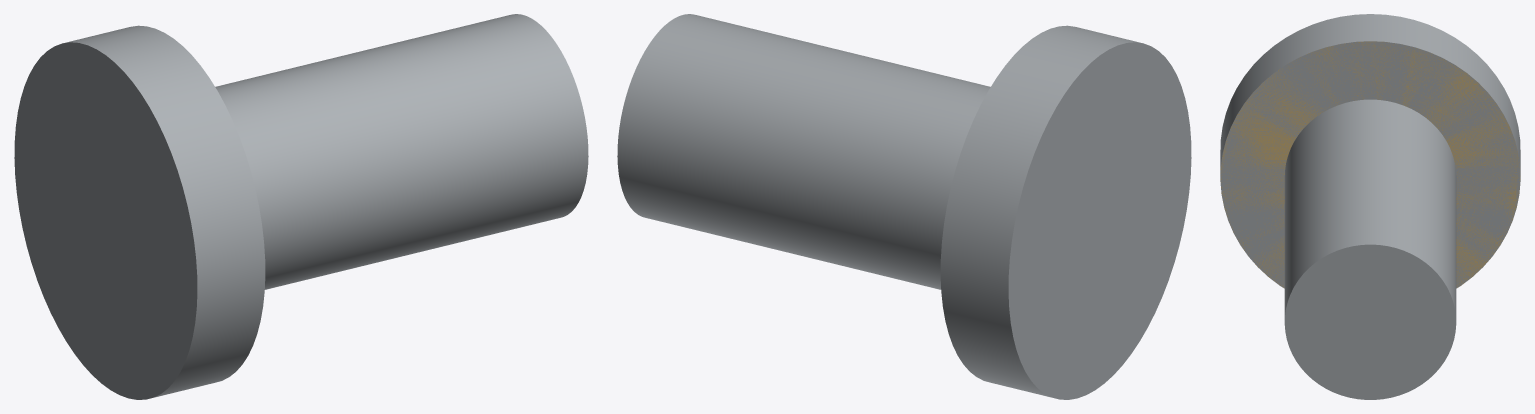
Rendered from step_02.glb.
3 views of the same model, side by side, from view 1: azimuth 30°, elevation 25°; view 2: azimuth 150°, elevation 25°; view 3: azimuth 270°, elevation 25° (orthographic). The views are drawn at different scales.
Parts seen in each view (by area): view 1: part__recline lock pin; view 2: part__recline lock pin; view 3: part__recline lock pin, added__recline lock pin.
Boxes of the visible parts, x1,y1,x2,y2 form: part__recline lock pin: [14, 14, 588, 399]; part__recline lock pin: [617, 14, 1191, 399]; part__recline lock pin: [1220, 14, 1520, 399]; added__recline lock pin: [1220, 41, 1520, 287].
Bounding box in the file's own units: 19 × 13.99 × 14.
